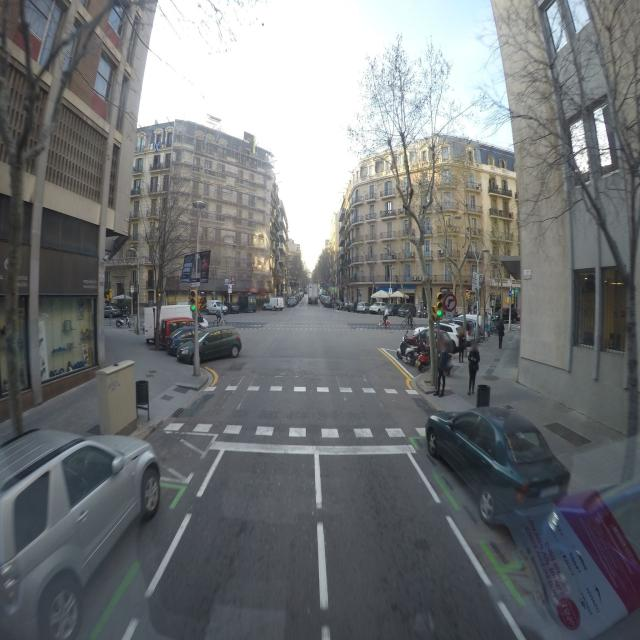car: (0, 424, 163, 640), (171, 317, 243, 363), (406, 324, 460, 368), (204, 299, 229, 316), (104, 304, 122, 320), (355, 302, 368, 312), (263, 300, 276, 310), (287, 296, 296, 306)
